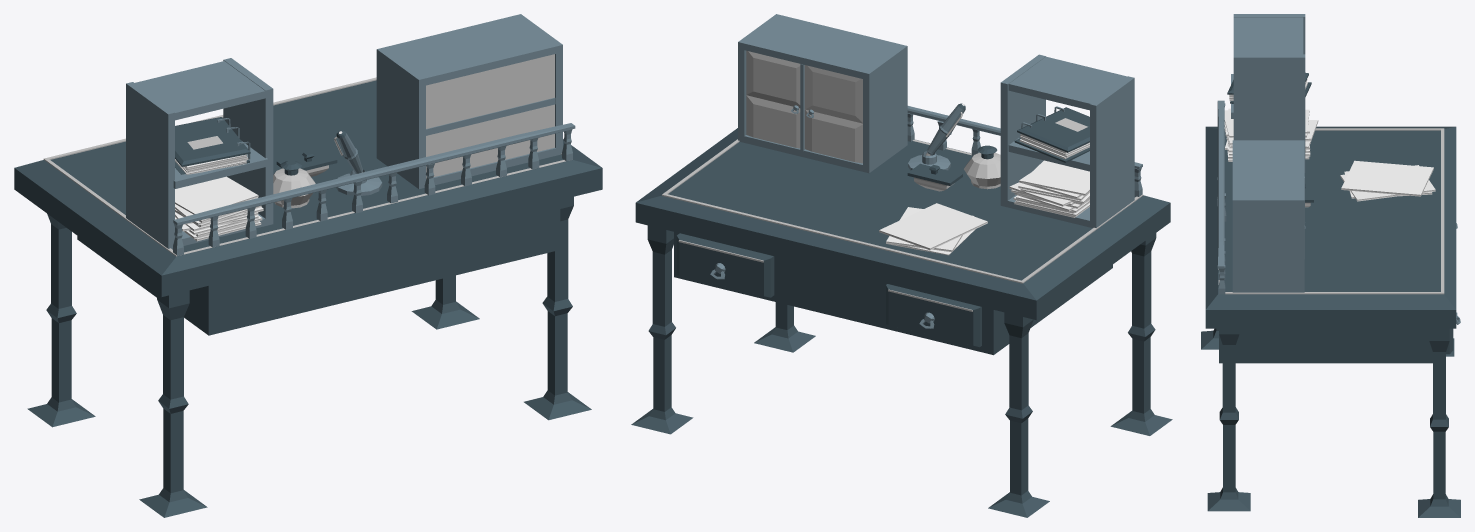
3 views of the same model, side by side, from view 1: azimuth 30°, elevation 25°; view 2: azimuth 150°, elevation 25°; view 3: azimuth 270°, elevation 25° (orthographic). The views are drawn at different scales.
Bounding box in the file's own units: 5.1 × 4.25 × 3.04.
